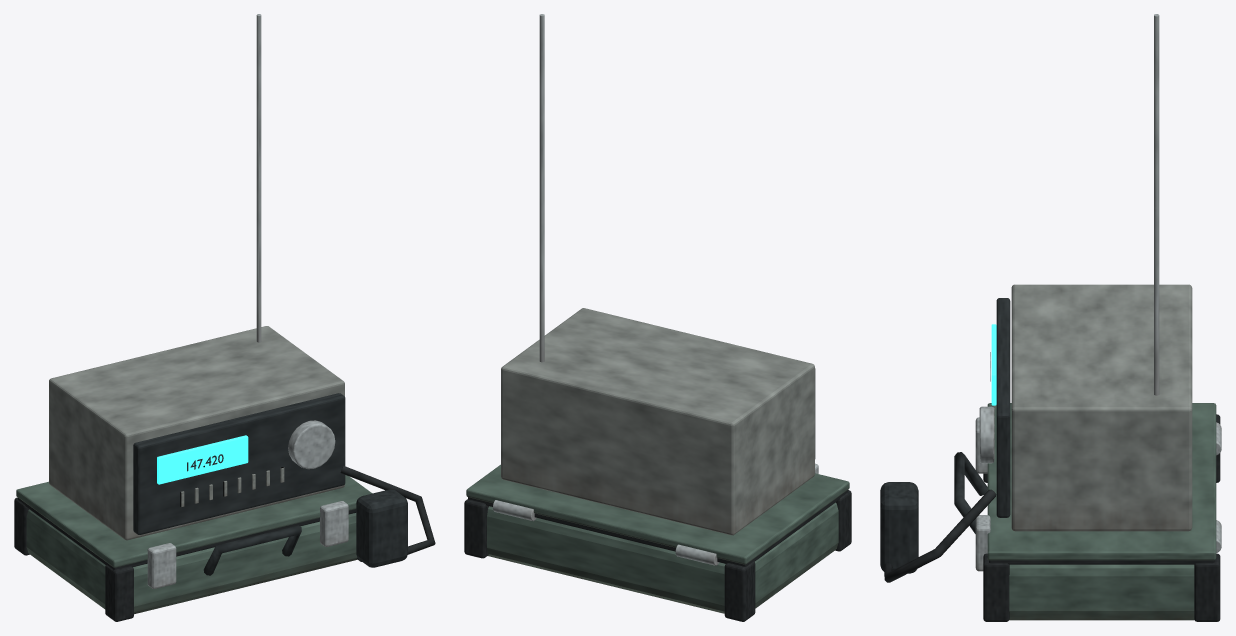
File: GR_FieldRadio_02.glb
The picture shows the model from 3 angles, left to right: view 1: azimuth 30°, elevation 25°; view 2: azimuth 150°, elevation 25°; view 3: azimuth 270°, elevation 25°; orthographic projection. The views are drawn at different scales.
Parts seen in each view (by area): view 1: Static; view 2: Static; view 3: Static.
Boxes of the visible parts, x1=… form: Static: x1=14, y1=14, x2=435, y2=621; Static: x1=464, y1=14, x2=851, y2=621; Static: x1=880, y1=14, x2=1221, y2=621.
Size of the model in its own units: 0.7028 by 1.18 by 0.624.
Materials: 2 (2 with a texture image).
